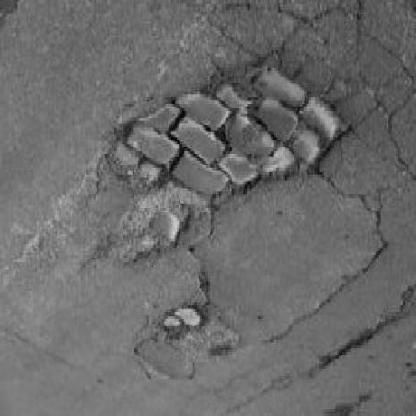pothole: (106, 58, 354, 203), (112, 192, 198, 270), (162, 306, 206, 342)
